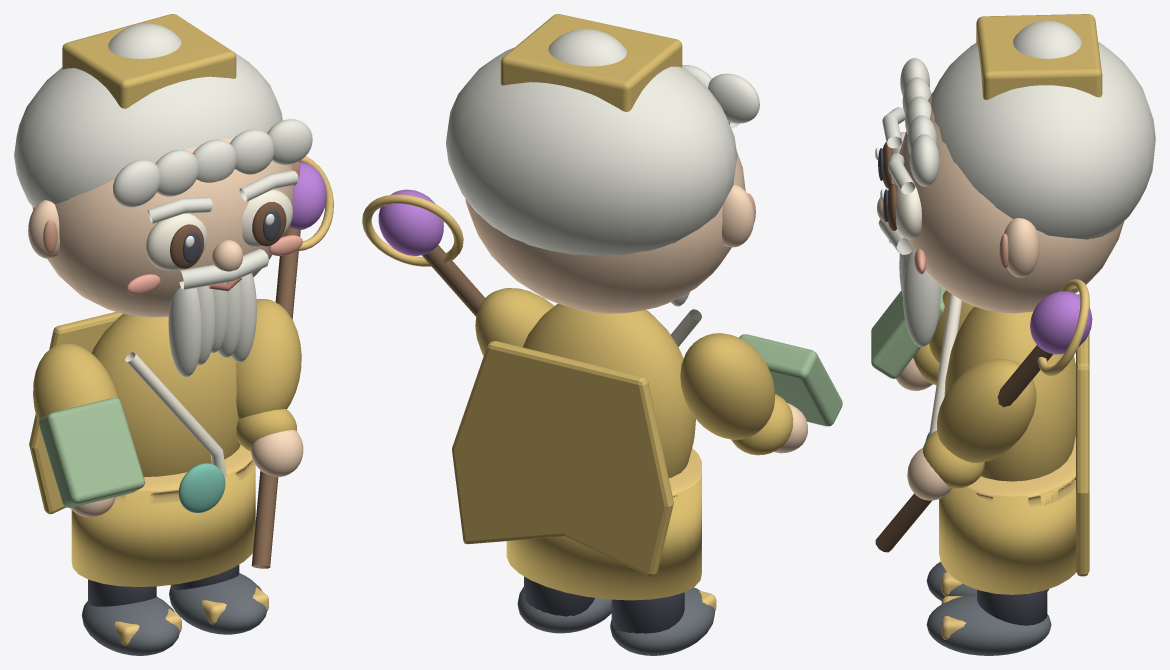
Rendered from zhangjiao.fbx.
3 renders of one model, left to right at view 1: azimuth 30°, elevation 25°; view 2: azimuth 150°, elevation 25°; view 3: azimuth 270°, elevation 25°, orthographic. The views are drawn at different scales.
Parts seen in each view (by area): view 1: hair_mass, face, robe_skirt, body, medicine_book, scholar_crown, sleeve, sleeve.001, boot, boot.001, spell_staff, cape (+34 smaller); view 2: hair_mass, cape, face, body, robe_skirt, scholar_crown, sleeve.001, medicine_book, sleeve, boot, spell_gem, leg (+10 smaller); view 3: hair_mass, face, robe_skirt, body, scholar_crown, sleeve, boot.001, cape, medicine_book, spell_gem, beard_lock.004, spell_staff (+22 smaller).
Boxes of the visible parts, x1=… form: hair_mass: x1=14, y1=51, x2=282, y2=207; face: x1=32, y1=137, x2=294, y2=317; robe_skirt: x1=71, y1=459, x2=255, y2=586; body: x1=91, y1=313, x2=240, y2=476; medicine_book: x1=39, y1=398, x2=144, y2=507; scholar_crown: x1=62, y1=14, x2=236, y2=108; sleeve: x1=236, y1=299, x2=301, y2=419; sleeve.001: x1=33, y1=343, x2=118, y2=423; boot: x1=81, y1=596, x2=179, y2=655; boot.001: x1=169, y1=573, x2=266, y2=634; spell_staff: x1=251, y1=227, x2=300, y2=568; cape: x1=29, y1=312, x2=122, y2=514; hair_mass: x1=446, y1=48, x2=737, y2=256; cape: x1=452, y1=341, x2=673, y2=576; face: x1=465, y1=151, x2=745, y2=313; body: x1=523, y1=303, x2=695, y2=477; robe_skirt: x1=506, y1=472, x2=701, y2=600; scholar_crown: x1=500, y1=14, x2=682, y2=111; sleeve.001: x1=680, y1=333, x2=775, y2=439; medicine_book: x1=739, y1=334, x2=842, y2=426; sleeve: x1=475, y1=288, x2=553, y2=355; boot: x1=610, y1=587, x2=714, y2=655; spell_gem: x1=378, y1=189, x2=443, y2=255; leg: x1=611, y1=592, x2=684, y2=633; hair_mass: x1=931, y1=42, x2=1155, y2=239; face: x1=896, y1=92, x2=1124, y2=313; robe_skirt: x1=939, y1=477, x2=1076, y2=594; body: x1=944, y1=306, x2=1075, y2=481; scholar_crown: x1=976, y1=14, x2=1102, y2=99; sleeve: x1=937, y1=358, x2=1036, y2=463; boot.001: x1=926, y1=594, x2=1051, y2=655; cape: x1=1076, y1=294, x2=1089, y2=576; medicine_book: x1=871, y1=286, x2=945, y2=378; spell_gem: x1=1030, y1=291, x2=1092, y2=354; beard_lock.004: x1=902, y1=250, x2=940, y2=347; spell_staff: x1=875, y1=345, x2=1053, y2=552.
Bounding box in the file's own units: 1.55 × 2.44 × 1.05.
